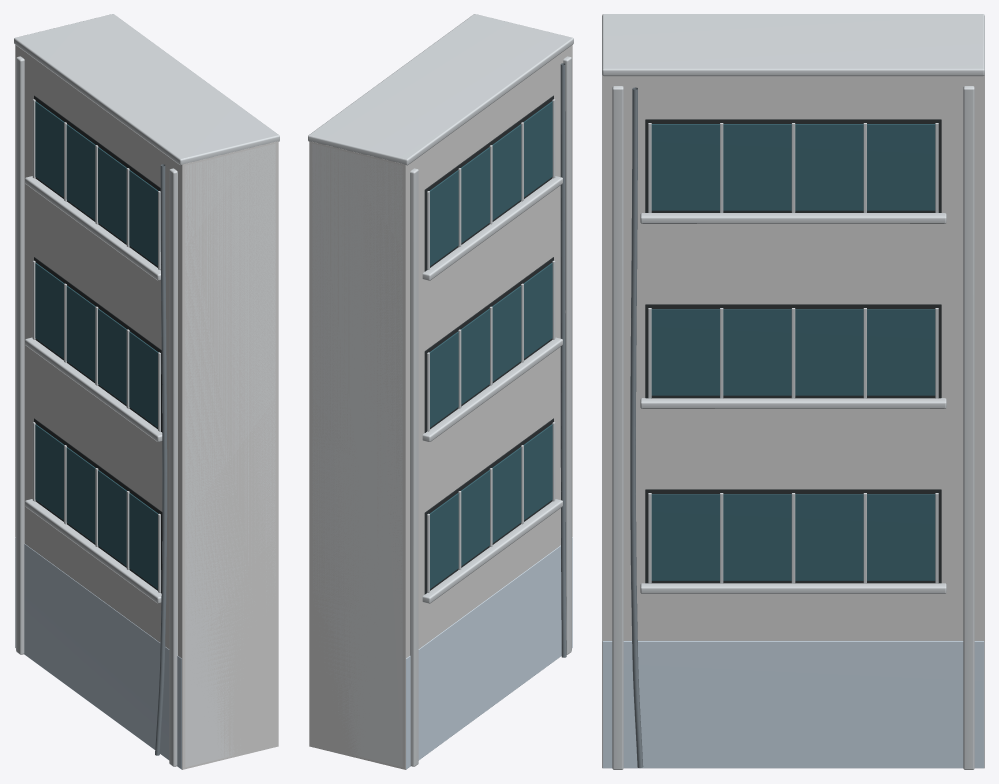
Rendered from m3_security_wall.glb.
3 views of the same model, side by side, from view 1: azimuth 30°, elevation 25°; view 2: azimuth 150°, elevation 25°; view 3: azimuth 270°, elevation 25° (orthographic). The views are drawn at different scales.
Visible parts, largest first — view 1: COL_m3_security_wall, m3_security_wall_ir_plaster, m3_security_wall_ir_white, m3_security_wall_ir_glass, m3_security_wall_ir_blue, m3_security_wall_ir_steel, m3_security_wall_ir_rubber; view 2: COL_m3_security_wall, m3_security_wall_ir_plaster, m3_security_wall_ir_white, m3_security_wall_ir_glass, m3_security_wall_ir_blue, m3_security_wall_ir_rubber, m3_security_wall_ir_steel; view 3: COL_m3_security_wall, m3_security_wall_ir_glass, m3_security_wall_ir_white, m3_security_wall_ir_blue, m3_security_wall_ir_rubber, m3_security_wall_ir_steel.
Boxes of the visible parts, x1,y1,x2,y2 form: COL_m3_security_wall: (15, 45, 278, 769); m3_security_wall_ir_plaster: (185, 143, 275, 767); m3_security_wall_ir_white: (14, 14, 279, 766); m3_security_wall_ir_glass: (35, 101, 158, 588); m3_security_wall_ir_blue: (15, 537, 181, 769); m3_security_wall_ir_steel: (155, 164, 167, 755); m3_security_wall_ir_rubber: (34, 95, 162, 593); COL_m3_security_wall: (309, 45, 572, 769); m3_security_wall_ir_plaster: (312, 143, 402, 767); m3_security_wall_ir_white: (308, 14, 573, 766); m3_security_wall_ir_glass: (429, 101, 552, 588); m3_security_wall_ir_blue: (406, 537, 572, 769); m3_security_wall_ir_rubber: (424, 95, 553, 594); m3_security_wall_ir_steel: (560, 63, 566, 657); COL_m3_security_wall: (602, 75, 984, 768); m3_security_wall_ir_glass: (651, 124, 935, 580); m3_security_wall_ir_white: (602, 14, 984, 769); m3_security_wall_ir_blue: (602, 641, 984, 768); m3_security_wall_ir_rubber: (645, 119, 941, 583); m3_security_wall_ir_steel: (630, 87, 643, 768).
Bounding box in the file's own units: 2.43 × 12.11 × 6.
